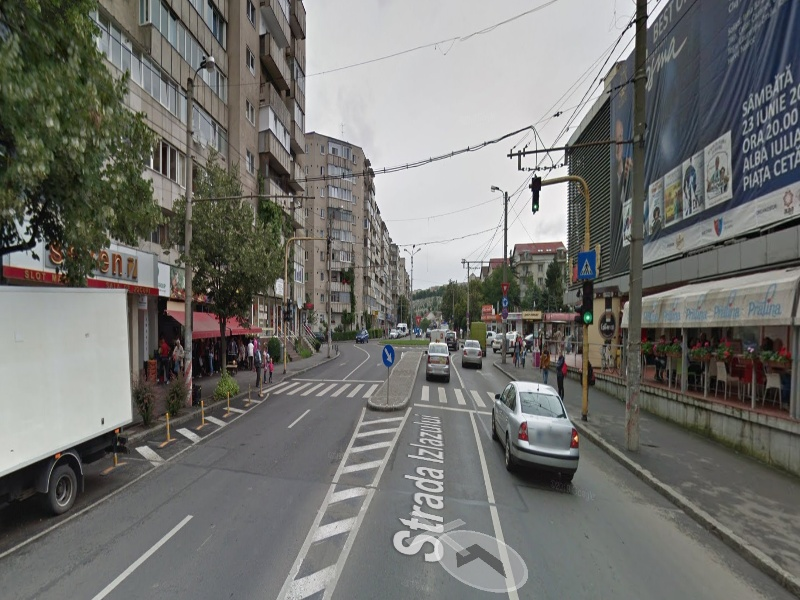crosswalk: (260, 373, 557, 422)
crosswalk_sign: (576, 251, 600, 278)
pedestrian: (552, 350, 569, 403), (536, 346, 552, 385)
semaphore: (577, 278, 595, 327), (527, 173, 543, 214)
